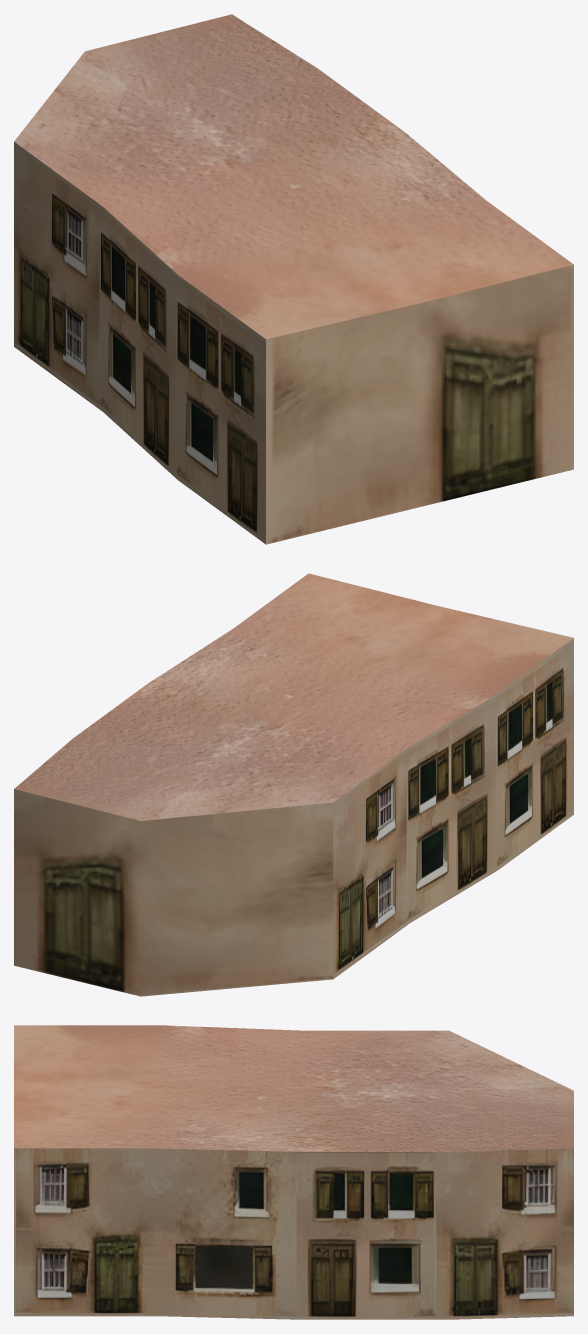
The model's file is desertset2.gltf.
3 renders of one model, top to bottom at view 1: azimuth 30°, elevation 25°; view 2: azimuth 150°, elevation 25°; view 3: azimuth 270°, elevation 25°, orthographic. The views are drawn at different scales.
Parts seen in each view (by area): view 1: desertset2_atomic0; view 2: desertset2_atomic0; view 3: desertset2_atomic0.
Boxes of the visible parts, x1=… form: desertset2_atomic0: x1=14, y1=14, x2=573, y2=544; desertset2_atomic0: x1=14, y1=573, x2=573, y2=996; desertset2_atomic0: x1=14, y1=1025, x2=573, y2=1319.
Size of the model in its own units: 25.84 by 16 by 48.31.
2 materials, 2 textured.
